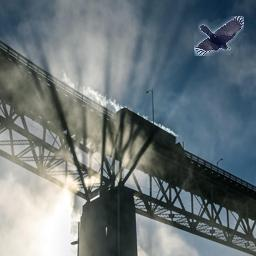Crow: (194, 16, 244, 56)
